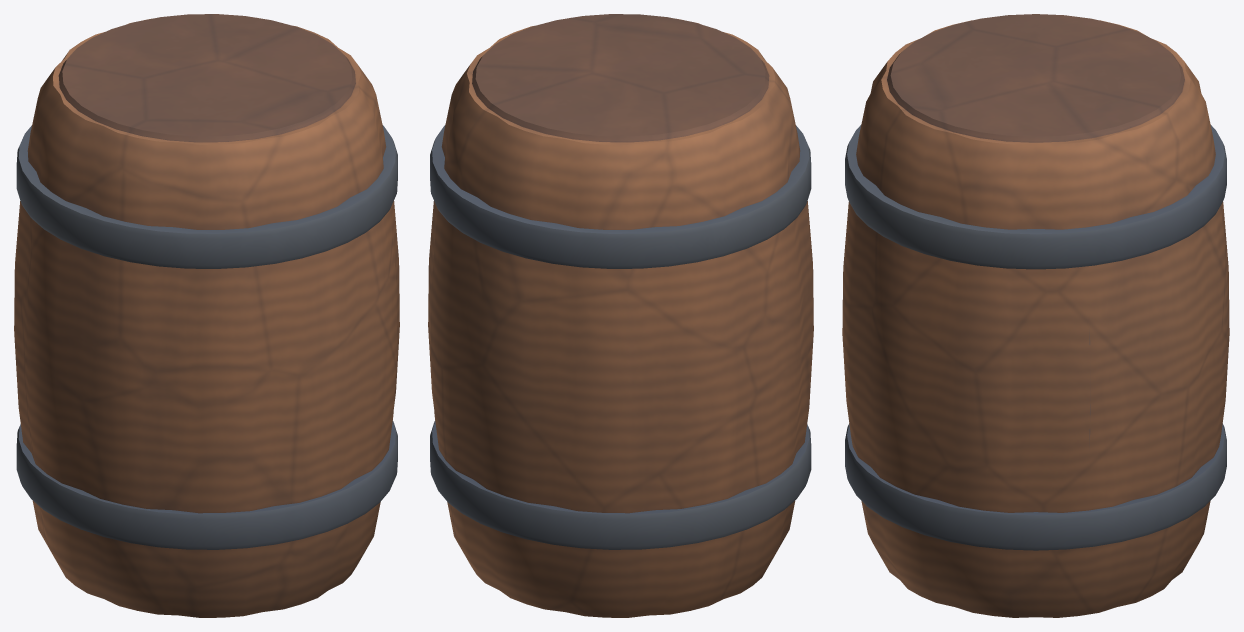
The model's file is CC_P07_Barrel.fbx.
3 views of the same model, side by side, from view 1: azimuth 30°, elevation 25°; view 2: azimuth 150°, elevation 25°; view 3: azimuth 270°, elevation 25° (orthographic).
Visible parts, largest first — view 1: Body, Lid, Hoop_02, Hoop_01; view 2: Body, Lid, Hoop_02, Hoop_01; view 3: Body, Lid, Hoop_02, Hoop_01.
Part boxes in pixels (bbox=[...]): Body: bbox=[14, 18, 399, 617]; Lid: bbox=[58, 14, 355, 142]; Hoop_02: bbox=[16, 125, 397, 268]; Hoop_01: bbox=[16, 420, 397, 549]; Body: bbox=[428, 18, 813, 617]; Lid: bbox=[472, 14, 769, 142]; Hoop_02: bbox=[430, 125, 811, 268]; Hoop_01: bbox=[430, 420, 811, 549]; Body: bbox=[842, 20, 1229, 617]; Lid: bbox=[887, 14, 1184, 142]; Hoop_02: bbox=[845, 125, 1226, 269]; Hoop_01: bbox=[845, 423, 1226, 550].
Bounding box in the file's own units: 0.7949 × 1.1 × 0.7989.
